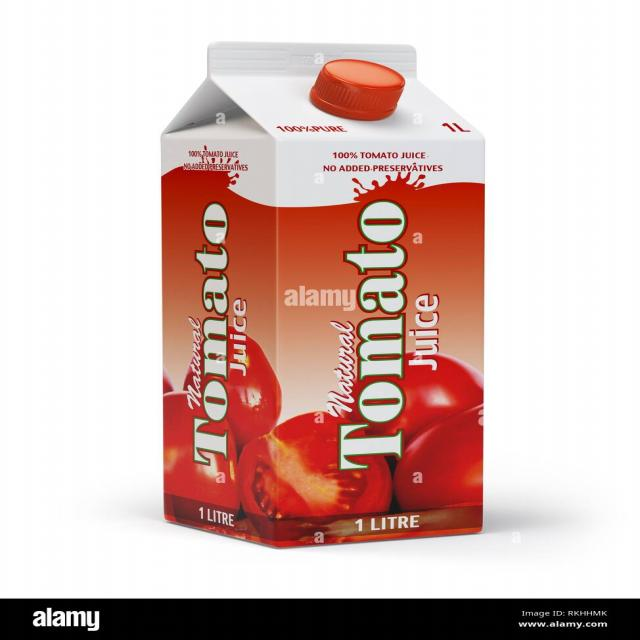non_white_jug: (108, 15, 510, 570)
